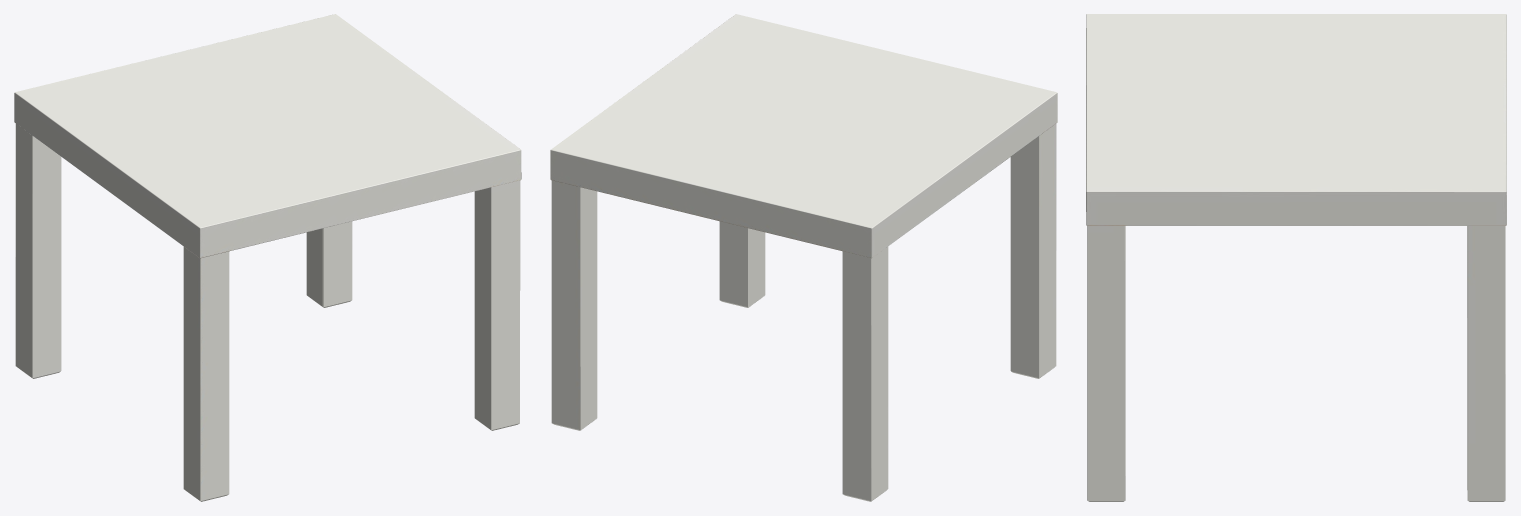
The model's file is LACK_30449908.glb.
3 views of the same model, side by side, from view 1: azimuth 30°, elevation 25°; view 2: azimuth 150°, elevation 25°; view 3: azimuth 270°, elevation 25° (orthographic). The views are drawn at different scales.
Parts seen in each view (by area): view 1: model; view 2: model; view 3: model.
Part boxes in pixels (x1=…): model: x1=14, y1=14, x2=521, y2=501; model: x1=550, y1=14, x2=1057, y2=501; model: x1=1086, y1=14, x2=1506, y2=501.
Size of the model in its own units: 0.55 by 0.45 by 0.55.
Materials: 1 (1 with a texture image).
